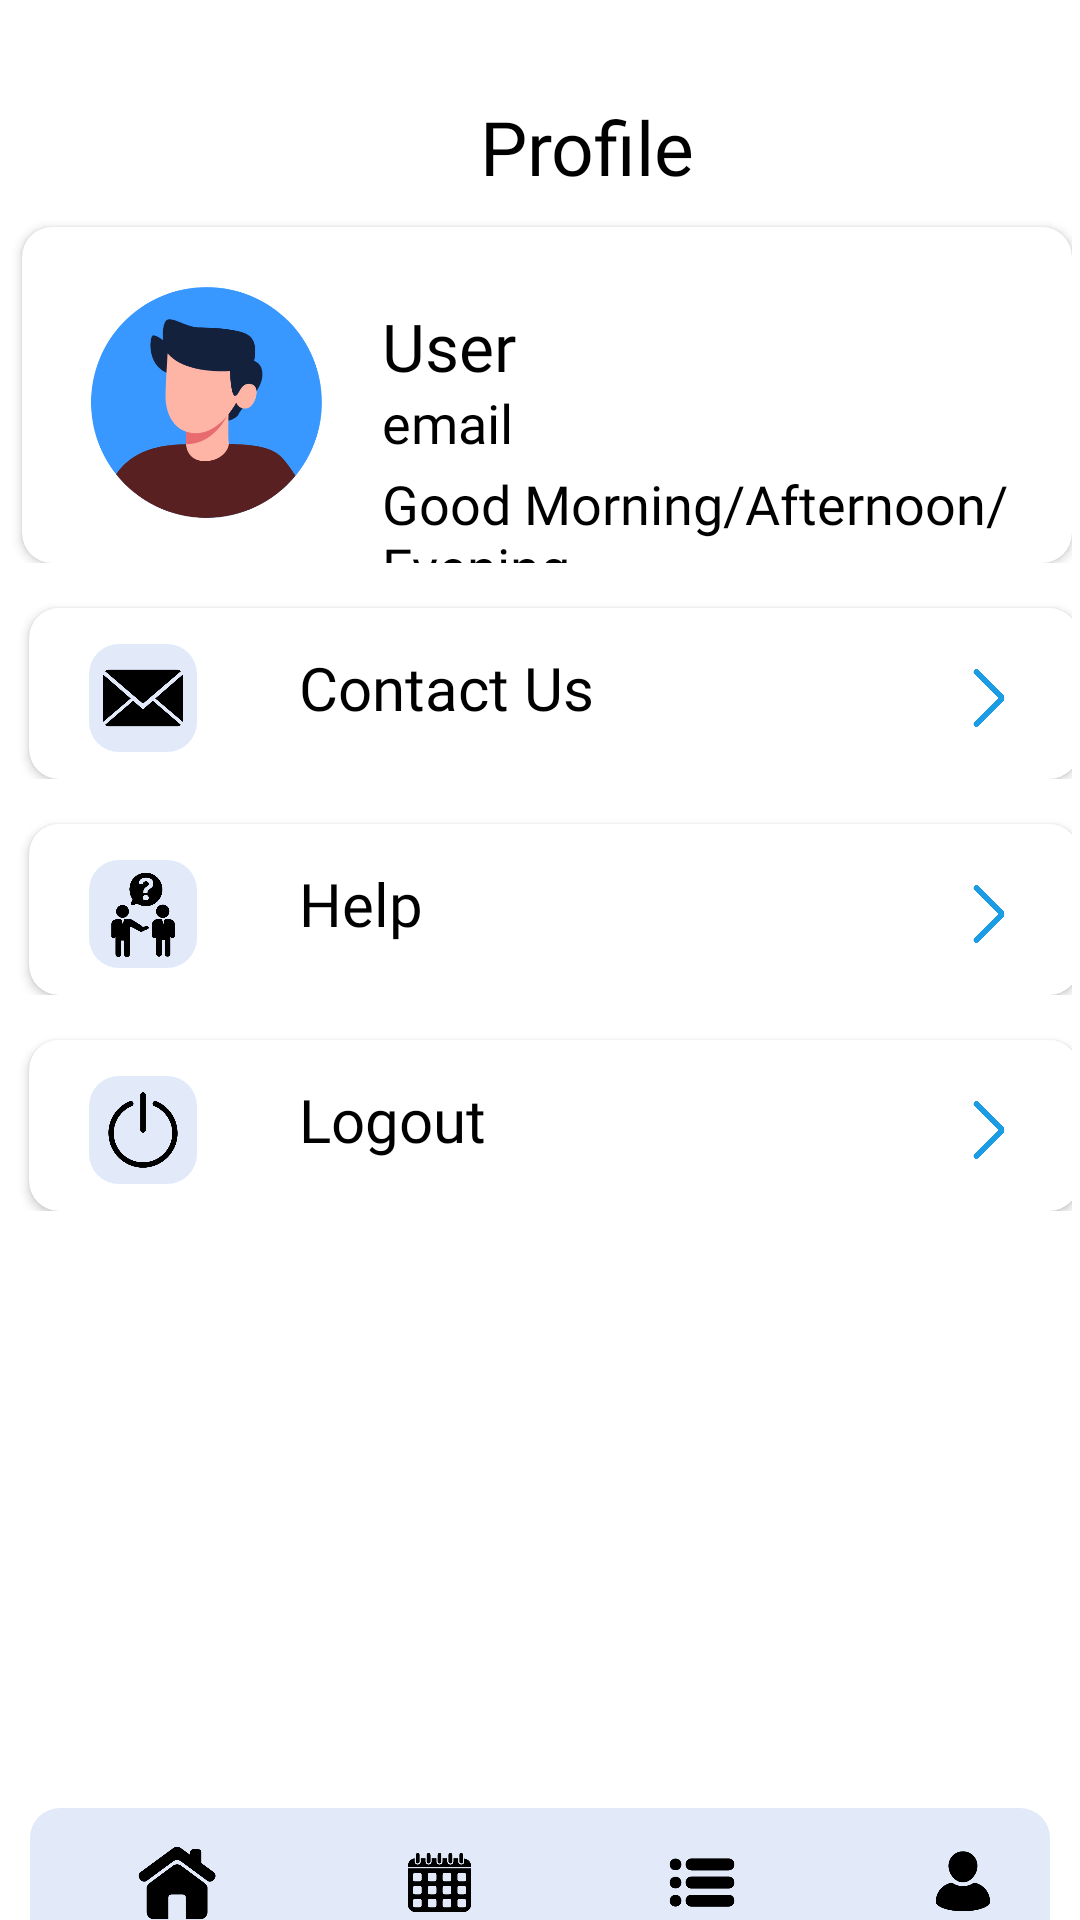

Named icons in this screenshot (1080px×1920px) and their bounding boxes, bbox(x1, y1, x2, y2):
arrow right: bbox(973, 669, 1005, 727), bbox(973, 885, 1005, 943), bbox(973, 1101, 1005, 1159)
